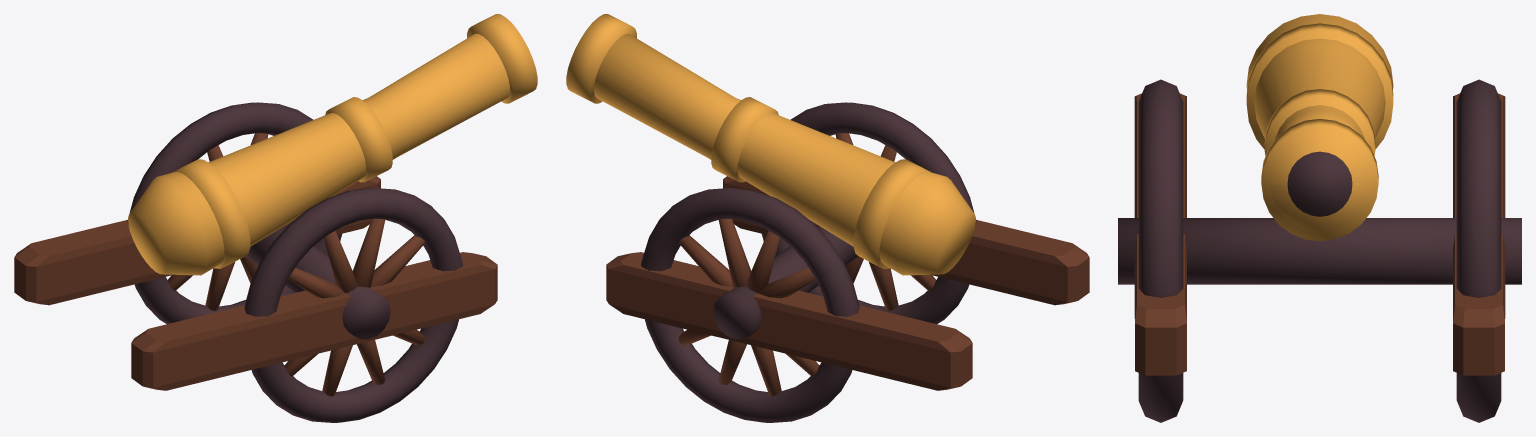
The model's file is gunners-cannon.glb.
3 views of the same model, side by side, from view 1: azimuth 30°, elevation 25°; view 2: azimuth 150°, elevation 25°; view 3: azimuth 270°, elevation 25° (orthographic). The views are drawn at different scales.
Parts seen in each view (by area): view 1: gunners-cannon · Carriage walnut, gunners-cannon · Engraved brass, gunners-cannon · Patinated iron; view 2: gunners-cannon · Carriage walnut, gunners-cannon · Engraved brass, gunners-cannon · Patinated iron; view 3: gunners-cannon · Patinated iron, gunners-cannon · Engraved brass, gunners-cannon · Carriage walnut.
Boxes of the visible parts, x1=… form: gunners-cannon · Carriage walnut: x1=14, y1=133, x2=497, y2=396; gunners-cannon · Engraved brass: x1=128, y1=14, x2=537, y2=275; gunners-cannon · Patinated iron: x1=127, y1=102, x2=462, y2=422; gunners-cannon · Carriage walnut: x1=606, y1=133, x2=1089, y2=396; gunners-cannon · Engraved brass: x1=566, y1=14, x2=975, y2=275; gunners-cannon · Patinated iron: x1=641, y1=102, x2=976, y2=422; gunners-cannon · Patinated iron: x1=1118, y1=79, x2=1521, y2=422; gunners-cannon · Engraved brass: x1=1246, y1=14, x2=1393, y2=241; gunners-cannon · Carriage walnut: x1=1134, y1=93, x2=1505, y2=375.
Size of the model in its own units: 2.96 by 1.95 by 1.7.
